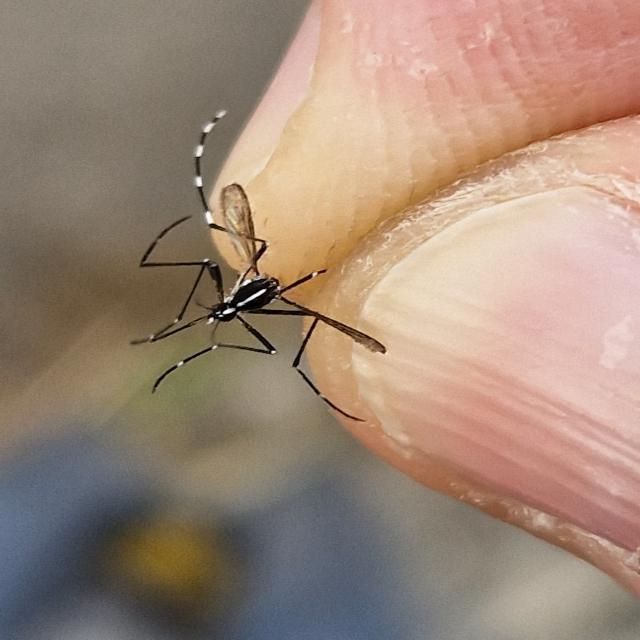albopictus: (109, 99, 399, 428)
